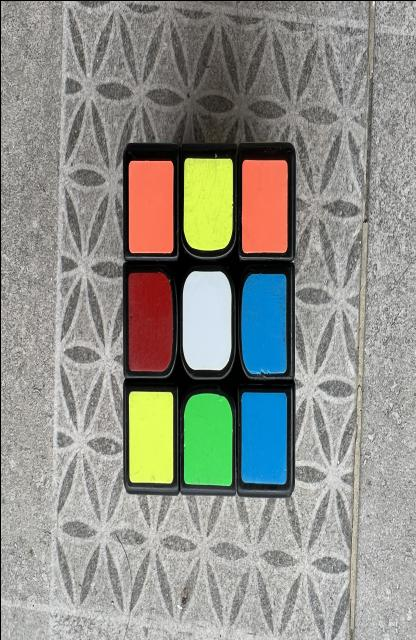Blue: (240, 273, 286, 373), (240, 392, 286, 483)
Green: (183, 392, 232, 485)
Orange: (240, 158, 287, 252), (128, 160, 172, 253)
Red: (128, 272, 172, 370)
White: (181, 270, 231, 370)
Yellow: (183, 157, 232, 250), (128, 390, 172, 483)
